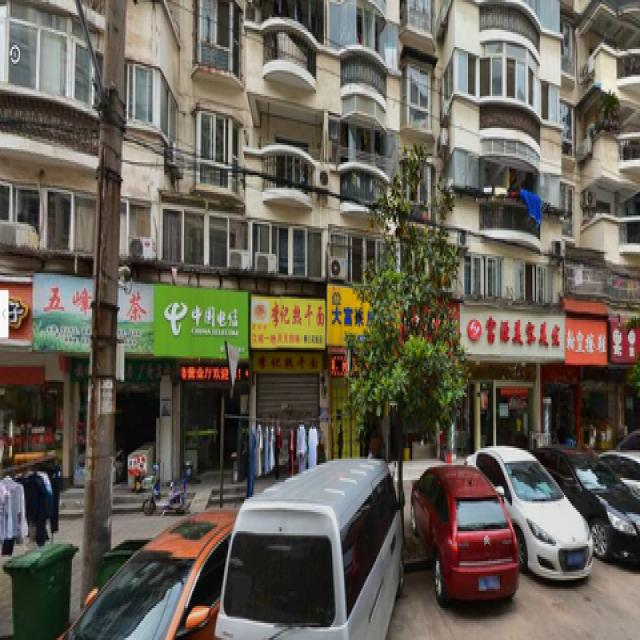magn: (369, 154, 460, 561)
